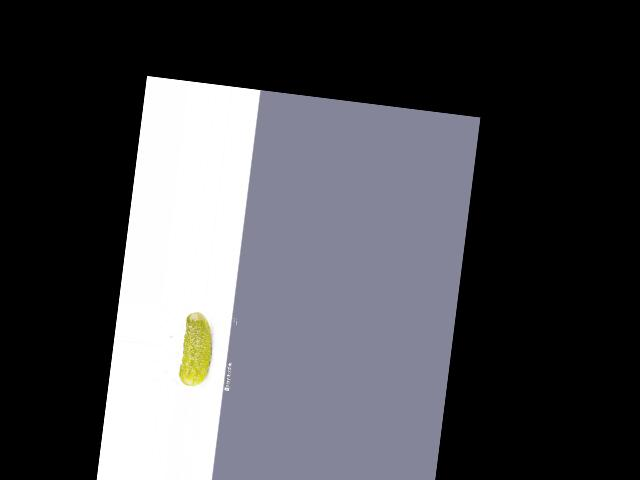cucumber: (177, 310, 216, 387)
